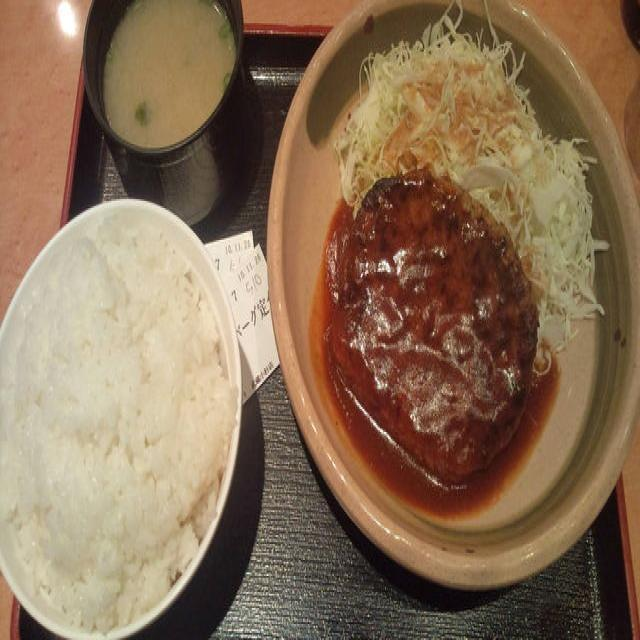Rice: (2, 220, 234, 628)
